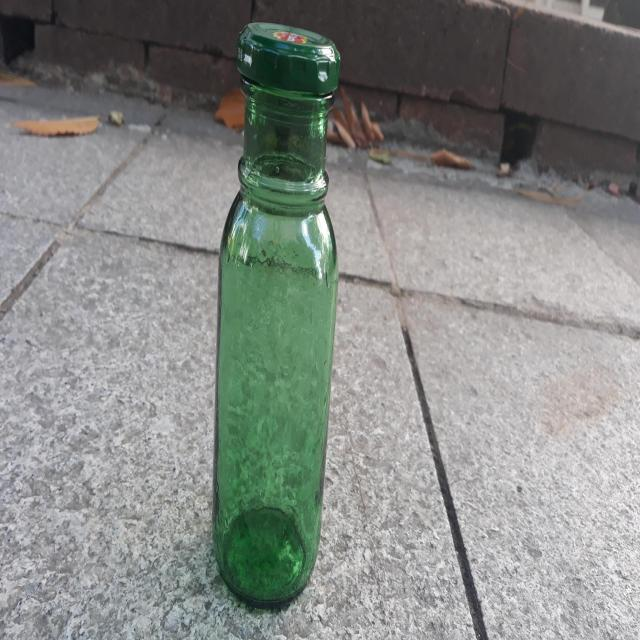glass: (213, 20, 340, 608)
